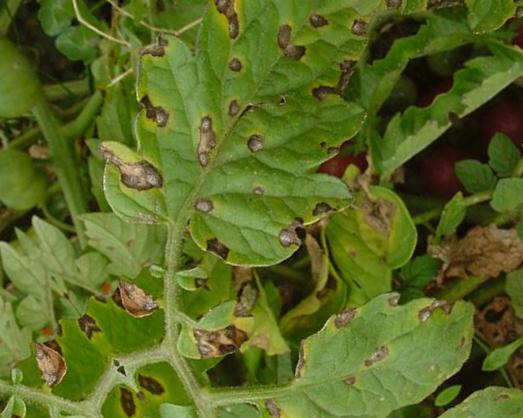Tomato Septoria leaf spot: (26, 0, 458, 333), (209, 236, 511, 418)
